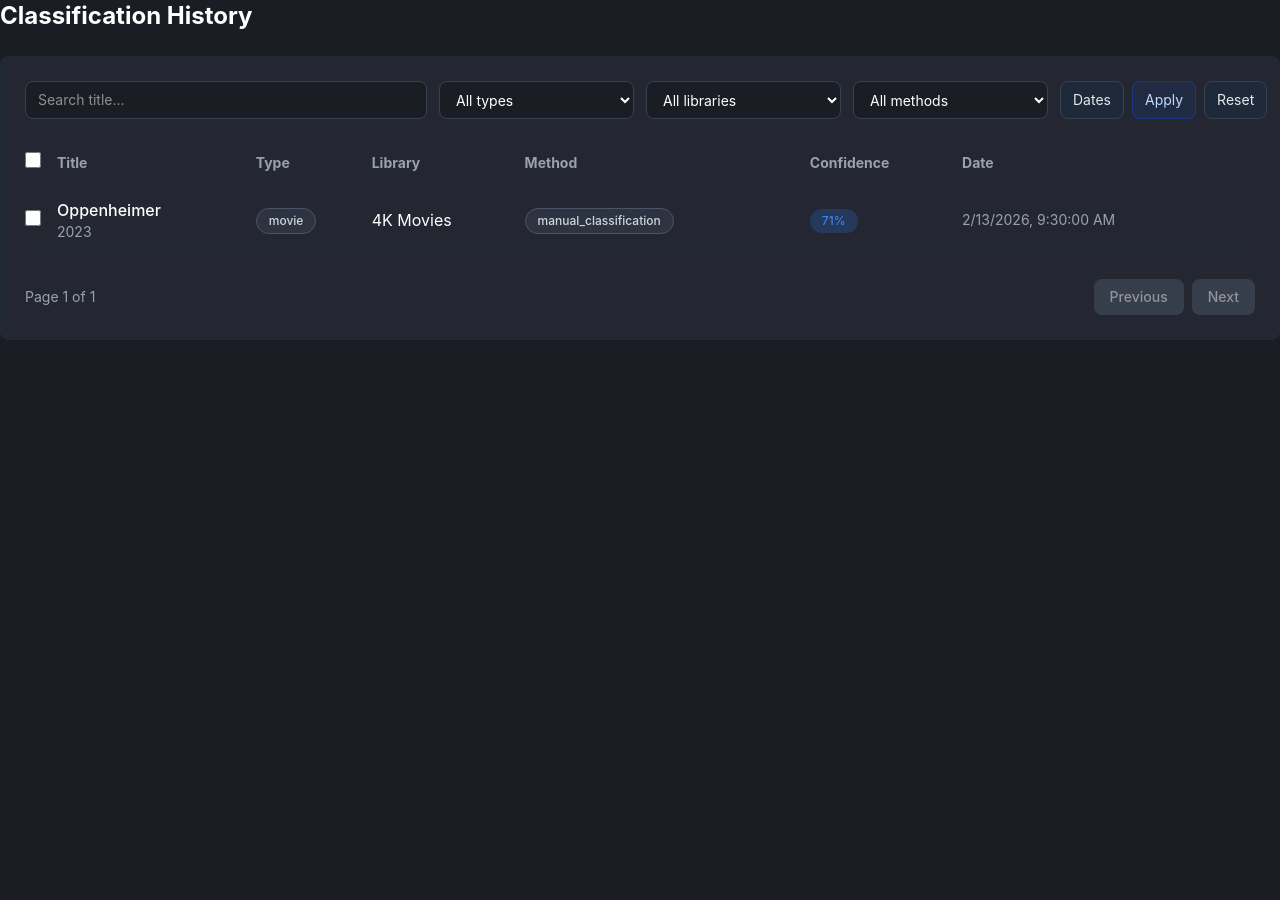
Test: History enhancements behavior › labels a saved manual selection as routing unconfirmed
Click the cell "Oppenheimer 2023".
click(156, 220)  # box [57,186,256,254]
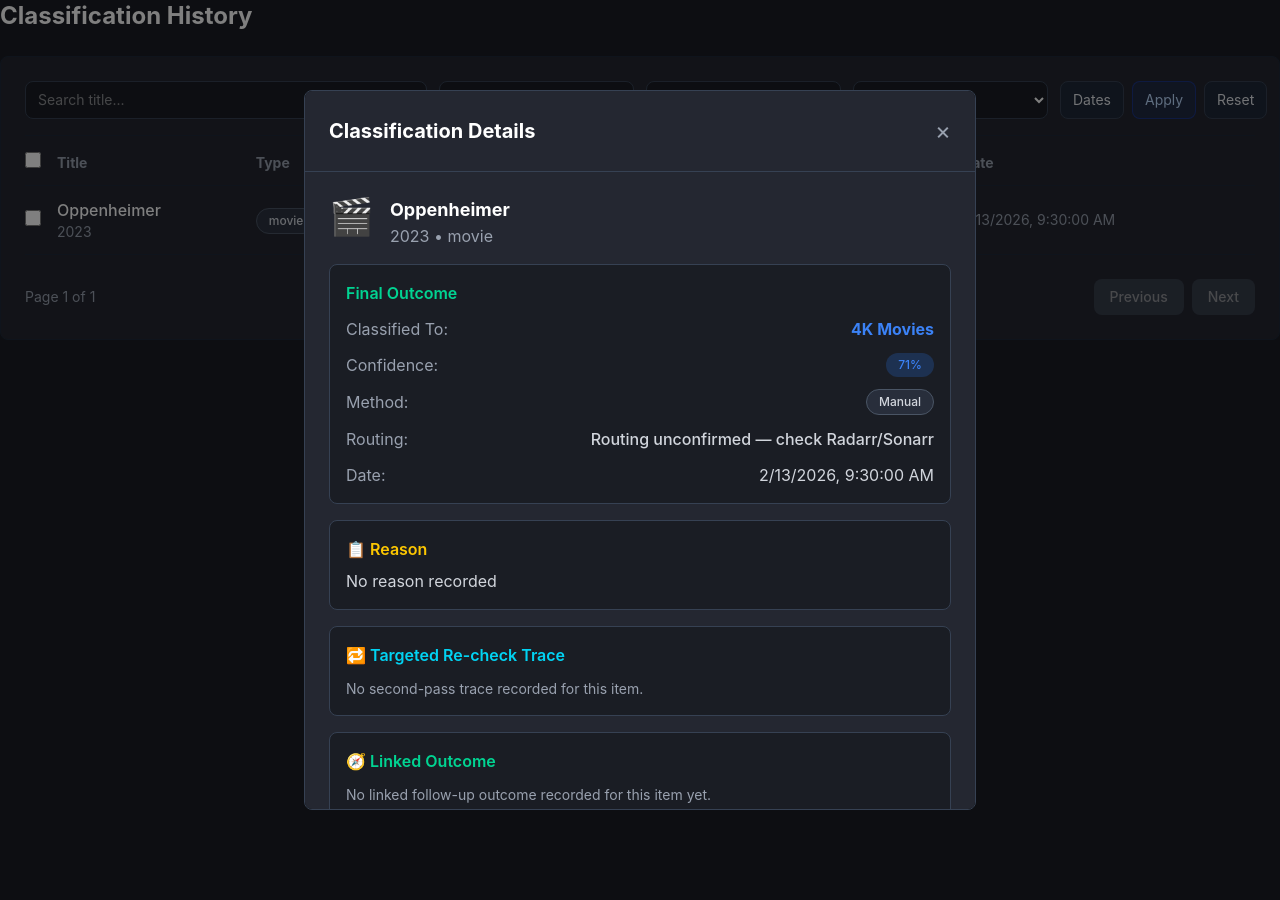
Result: the text "Routing unconfirmed — check Radarr/Sonarr" is shown at [591,427,934,451]
